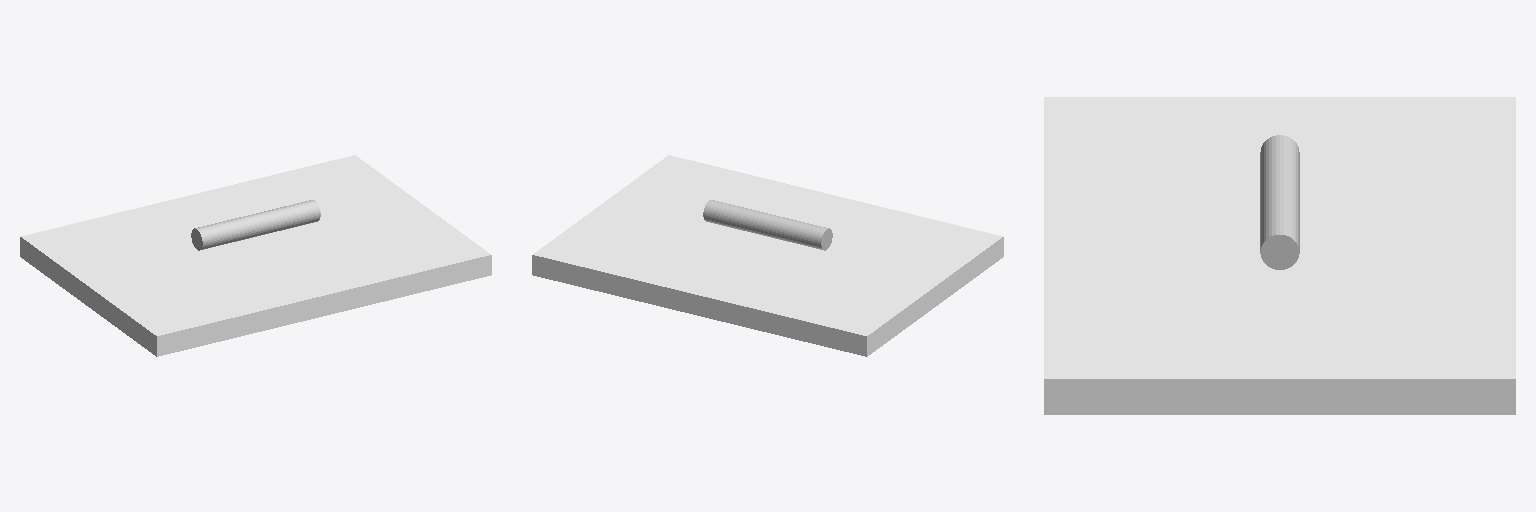
robot.urdf — lid:
<?xml version="1.0" ?>
<!-- =================================================================================== -->
<!-- |    This document was autogenerated by xacro from [local-path]/MT/catkin_ws/src/moma/moma_demos/articulated_demo/data/models/container/lid_for_container_on_table.urdf.xacro | -->
<!-- |    EDITING THIS FILE BY HAND IS NOT RECOMMENDED                                 | -->
<!-- =================================================================================== -->
<robot name="lid">
  <material name="white">
    <color rgba="1 1 1 1"/>
  </material>
  <material name="dark_brown">
    <color rgba="0.4 0.2 0.0 1"/>
  </material>
  <material name="light_brown">
    <color rgba="0.6 0.29 0.0 1"/>
  </material>
  <material name="silver">
    <color rgba="0.87 0.87 0.87 0.8"/>
  </material>
  <link name="base_link">
    <inertial>
      <origin rpy="0 0 0" xyz="0 0 0"/>
      <mass value="0.1"/>
      <inertia ixx="1" ixy="0" ixz="0" iyy="1" iyz="0" izz="1"/>
    </inertial>
  </link>
  <link name="lid_bottom_plane">
    <contact>
      <lateral_friction value="1.0"/>
    </contact>
    <inertial>
      <origin rpy="0 0 0" xyz="0 0 0"/>
      <mass value="0.02"/>
      <inertia ixx="1" ixy="0" ixz="0" iyy="1" iyz="0" izz="1"/>
    </inertial>
    <visual>
      <origin rpy="0 0 0" xyz="0 0 0"/>
      <geometry>
        <box size="0.33999999999999997 0.24000000000000002 0.01"/>
      </geometry>
      <material name="white"/>
    </visual>
    <collision>
      <origin rpy="0 0 0" xyz="0 0 0"/>
      <geometry>
        <box size="0.33999999999999997 0.24000000000000002 0.01"/>
      </geometry>
    </collision>
  </link>
  <link name="lid_back_plane">
    <contact>
      <lateral_friction value="1.0"/>
    </contact>
    <inertial>
      <origin rpy="0 0 0" xyz="0 0 0"/>
      <mass value="0.02"/>
      <inertia ixx="1" ixy="0" ixz="0" iyy="1" iyz="0" izz="1"/>
    </inertial>
    <visual>
      <origin rpy="0 0 0" xyz="0 0 0"/>
      <geometry>
        <box size="0.33999999999999997 0.020000000000000004 0.01"/>
      </geometry>
      <material name="white"/>
    </visual>
    <collision>
      <origin rpy="0 0 0" xyz="0 0 0"/>
      <geometry>
        <box size="0.33999999999999997 0.020000000000000004 0.01"/>
      </geometry>
    </collision>
  </link>
  <joint name="lid_back_joint" type="fixed">
    <origin rpy="1.5707963267948966 0 0" xyz="0 0.115 0.005000000000000002"/>
    <parent link="lid_bottom_plane"/>
    <child link="lid_back_plane"/>
  </joint>
  <link name="lid_left_plane">
    <contact>
      <lateral_friction value="1.0"/>
    </contact>
    <inertial>
      <origin rpy="0 0 0" xyz="0 0 0"/>
      <mass value="0.02"/>
      <inertia ixx="1" ixy="0" ixz="0" iyy="1" iyz="0" izz="1"/>
    </inertial>
    <visual>
      <origin rpy="0 0 0" xyz="0 0 0"/>
      <geometry>
        <box size="0.22000000000000003 0.020000000000000004 0.01"/>
      </geometry>
      <material name="white"/>
    </visual>
    <collision>
      <origin rpy="0 0 0" xyz="0 0 0"/>
      <geometry>
        <box size="0.22000000000000003 0.020000000000000004 0.01"/>
      </geometry>
    </collision>
  </link>
  <joint name="lid_left_joint" type="fixed">
    <origin rpy="1.5707963267948966 0 1.5707963267948966" xyz="-0.16499999999999998 0 0.005000000000000002"/>
    <parent link="lid_bottom_plane"/>
    <child link="lid_left_plane"/>
  </joint>
  <link name="lid_right_plane">
    <contact>
      <lateral_friction value="1.0"/>
    </contact>
    <inertial>
      <origin rpy="0 0 0" xyz="0 0 0"/>
      <mass value="0.02"/>
      <inertia ixx="1" ixy="0" ixz="0" iyy="1" iyz="0" izz="1"/>
    </inertial>
    <visual>
      <origin rpy="0 0 0" xyz="0 0 0"/>
      <geometry>
        <box size="0.22000000000000003 0.020000000000000004 0.01"/>
      </geometry>
      <material name="white"/>
    </visual>
    <collision>
      <origin rpy="0 0 0" xyz="0 0 0"/>
      <geometry>
        <box size="0.22000000000000003 0.020000000000000004 0.01"/>
      </geometry>
    </collision>
  </link>
  <joint name="lid_right_joint" type="fixed">
    <origin rpy="1.5707963267948966 0 1.5707963267948966" xyz="0.16499999999999998 0 0.005000000000000002"/>
    <parent link="lid_bottom_plane"/>
    <child link="lid_right_plane"/>
  </joint>
  <link name="lid_front_plane">
    <contact>
      <lateral_friction value="1.0"/>
    </contact>
    <inertial>
      <origin rpy="0 0 0" xyz="0 0 0"/>
      <mass value="0.02"/>
      <inertia ixx="1" ixy="0" ixz="0" iyy="1" iyz="0" izz="1"/>
    </inertial>
    <visual>
      <origin rpy="0 0 0" xyz="0 0 0"/>
      <geometry>
        <box size="0.33999999999999997 0.020000000000000004 0.01"/>
      </geometry>
      <material name="white"/>
    </visual>
    <collision>
      <origin rpy="0 0 0" xyz="0 0 0"/>
      <geometry>
        <box size="0.33999999999999997 0.020000000000000004 0.01"/>
      </geometry>
    </collision>
  </link>
  <joint name="lid_front_joint" type="fixed">
    <origin rpy="1.5707963267948966 0 0" xyz="0 -0.115 0.005000000000000002"/>
    <parent link="lid_bottom_plane"/>
    <child link="lid_front_plane"/>
  </joint>
  <link name="handle">
    <inertial>
      <origin rpy="0 0 0" xyz="0 0 0"/>
      <mass value="0.02"/>
      <inertia ixx="1" ixy="0" ixz="0" iyy="1" iyz="0" izz="1"/>
    </inertial>
    <collision>
      <origin rpy="0 0 0" xyz="0 0 0"/>
      <geometry>
        <cylinder length="0.12" radius="0.01"/>
      </geometry>
    </collision>
    <visual>
      <origin rpy="0 0 0" xyz="0 0 0"/>
      <geometry>
        <cylinder length="0.12" radius="0.01"/>
      </geometry>
      <material name="silver"/>
    </visual>
  </link>
  <joint name="handle_joint" type="fixed">
    <origin rpy="0 1.5707963267948966 0" xyz="0 0 -0.025"/>
    <parent link="lid_bottom_plane"/>
    <child link="handle"/>
  </joint>
  <joint name="frame_joint" type="fixed">
    <origin rpy="3.141592653589793 0 0" xyz="0 0 0"/>
    <parent link="base_link"/>
    <child link="lid_bottom_plane"/>
  </joint>
  <link name="door_handle_dummy_link">
    <!-- This dummy link is added s.t. the handle is the parent of some link and we can find the handle's index. -->
    <inertial>
      <origin rpy="0 0 0" xyz="0 0 0"/>
      <mass value="0.0"/>
      <inertia ixx="1" ixy="0" ixz="0" iyy="1" iyz="0" izz="1"/>
    </inertial>
  </link>
  <joint name="door_handle_dummy_joint" type="fixed">
    <origin rpy="0 0 0" xyz="0 0 0"/>
    <parent link="handle"/>
    <child link="door_handle_dummy_link"/>
  </joint>
</robot>

--- Render facts (derived) ---
The picture shows the robot from 3 angles, left to right: view 1: azimuth 30°, elevation 25°; view 2: azimuth 150°, elevation 25°; view 3: azimuth 270°, elevation 25°; orthographic projection.
Robot: lid — 8 links, 7 joints (7 fixed); root link base_link; default pose: every joint at zero.
Visible links, largest first — view 1: lid_bottom_plane, lid_back_plane, handle, lid_left_plane, lid_front_plane; view 2: lid_bottom_plane, lid_front_plane, handle, lid_left_plane, lid_back_plane; view 3: lid_bottom_plane, lid_right_plane, handle, lid_front_plane, lid_back_plane, lid_left_plane.
Boxes of the visible links, x1,y1,x2,y2 form: lid_bottom_plane: (20, 155, 491, 346); lid_back_plane: (151, 253, 491, 356); handle: (191, 200, 320, 250); lid_left_plane: (26, 238, 159, 351); lid_front_plane: (20, 155, 359, 260); lid_bottom_plane: (532, 155, 1003, 346); lid_front_plane: (532, 255, 872, 356); handle: (703, 200, 832, 250); lid_left_plane: (863, 238, 997, 351); lid_back_plane: (664, 155, 1003, 260); lid_bottom_plane: (1044, 97, 1515, 396); lid_right_plane: (1064, 371, 1495, 414); handle: (1260, 135, 1299, 269); lid_front_plane: (1496, 97, 1515, 414); lid_back_plane: (1044, 97, 1063, 414); lid_left_plane: (1064, 97, 1495, 104).
Size in the robot's own frame: 0.34 by 0.24 by 0.05 metres.
Geometry: primitives only (box / cylinder / sphere), no mesh files.